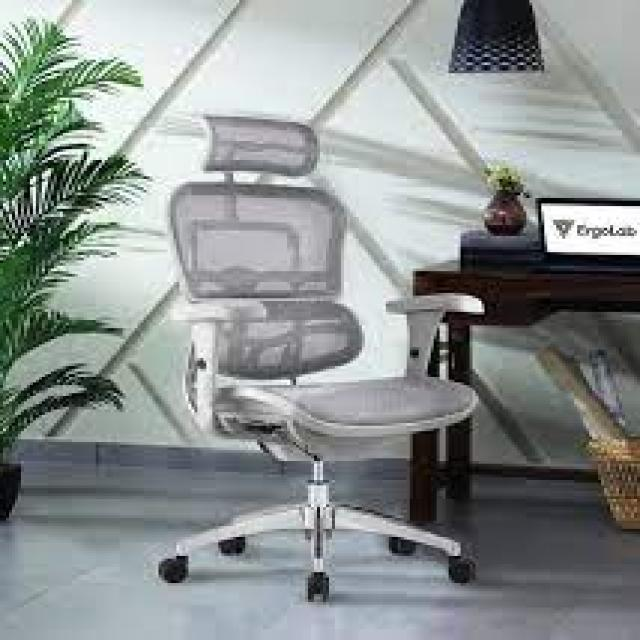chair: (98, 92, 520, 640)
